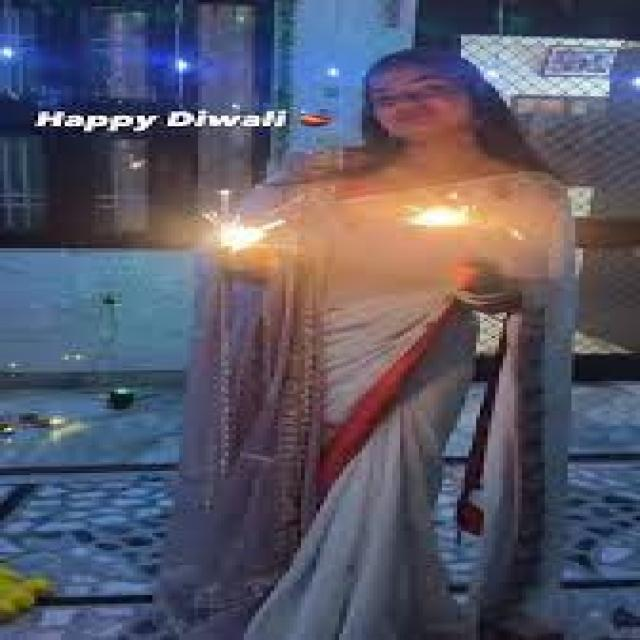fire: (201, 190, 286, 251), (395, 190, 488, 231)
